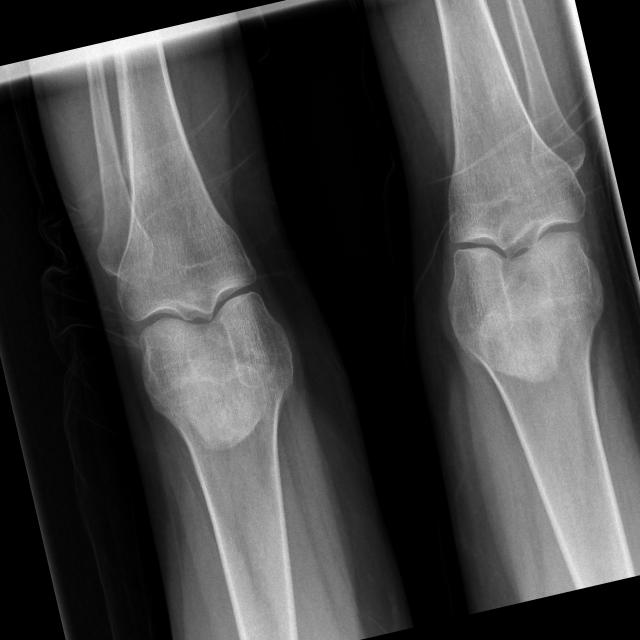Knee: (419, 157, 610, 334), (115, 242, 298, 400)
